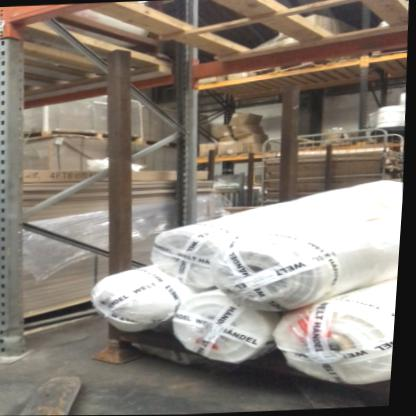vertical_damage: (1, 309, 41, 365)
